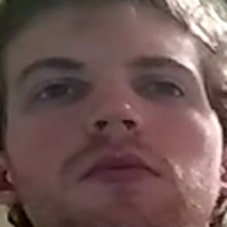awake: (13, 48, 204, 203)
